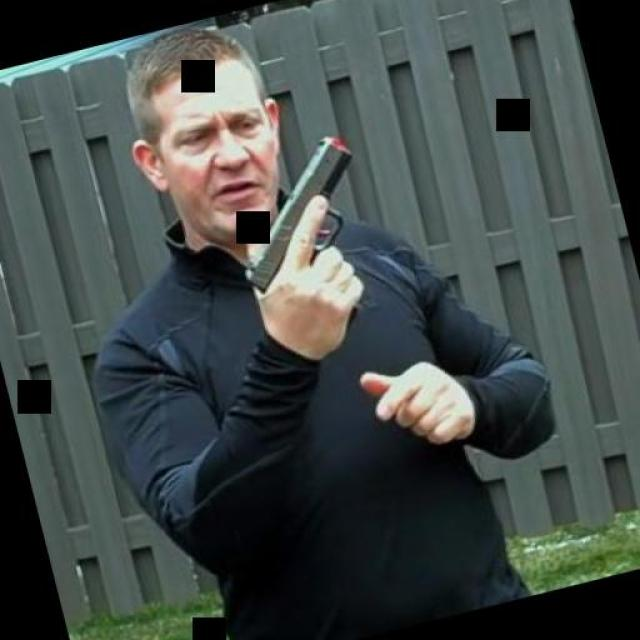gun: (205, 129, 395, 349)
